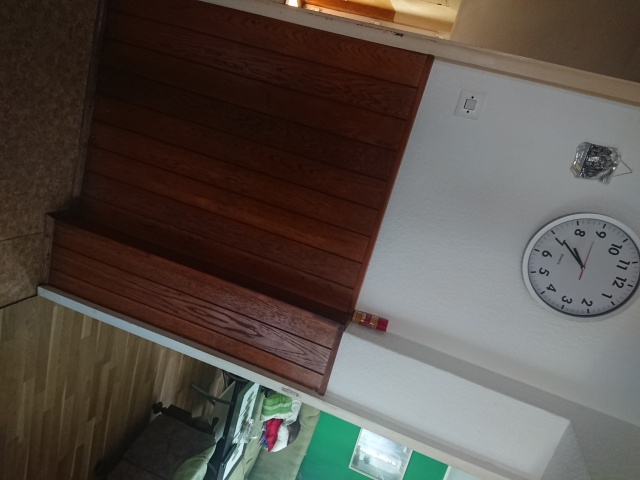Kotanyi Curry Spices Mix 70g: (350, 308, 390, 334)
